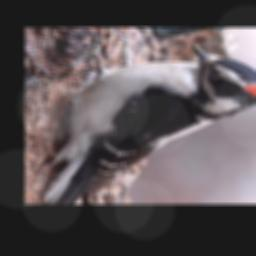Woodpecker: (39, 40, 256, 202)
